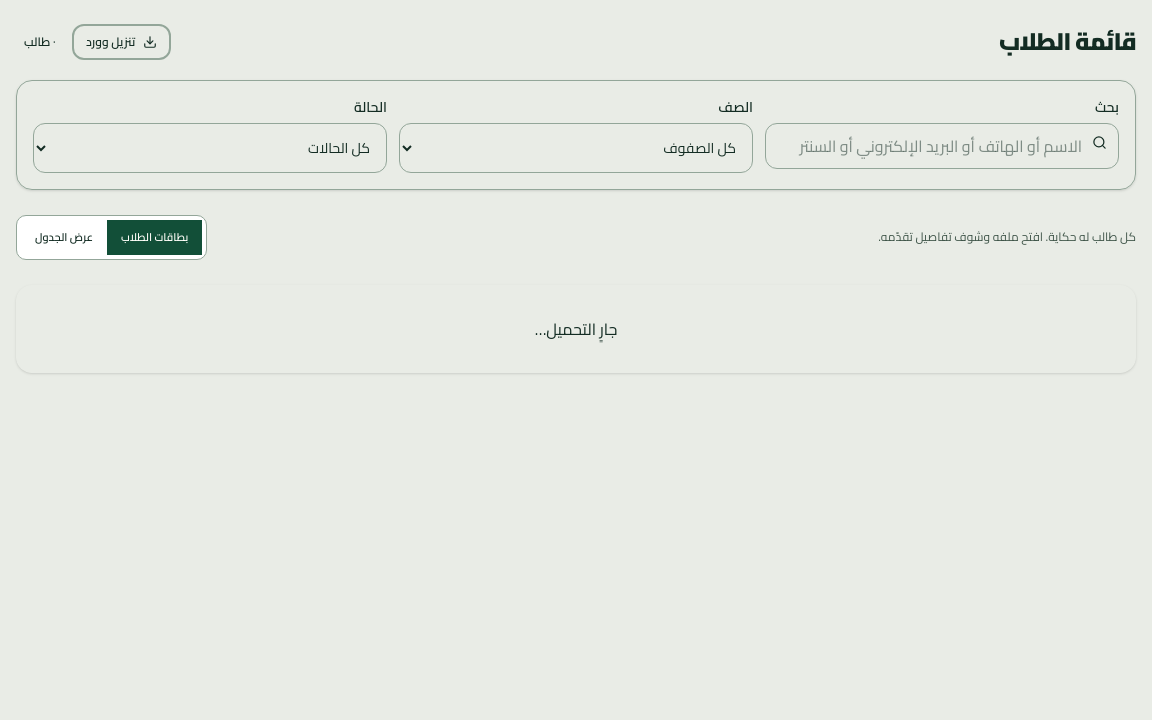
Test case: student list search › searches by email and displays the matching student
Type "student@example.com" into the field named "بحث".
click(942, 146); type("student@example.com")  # box [765,123,1119,169]
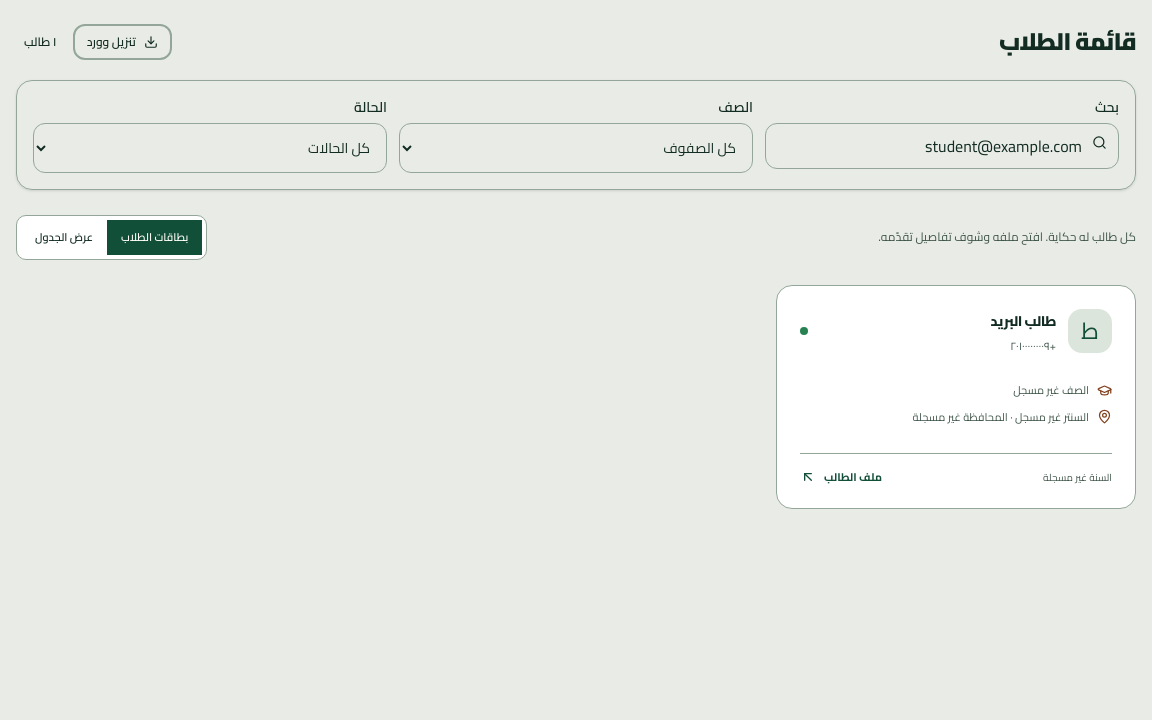
Expected: the heading "طالب البريد" is shown, [990,308,1056,334]
